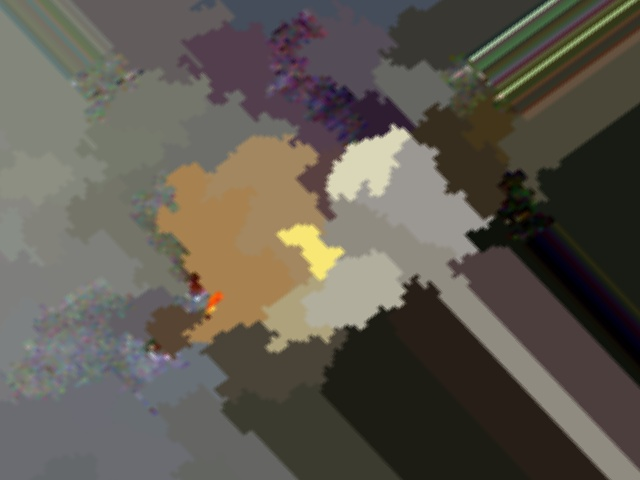eight: (365, 174, 426, 226)
